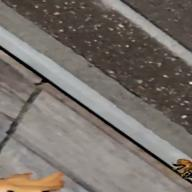Bee: (160, 153, 192, 184)
